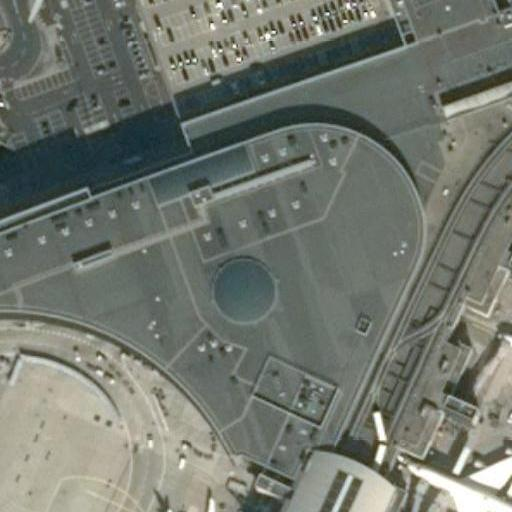Aircraft: (396, 428, 512, 512), (401, 430, 512, 512), (144, 491, 242, 512), (492, 307, 512, 398), (150, 494, 238, 512), (494, 309, 512, 396)
